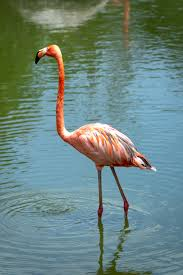Walking: (16, 43, 160, 242)
